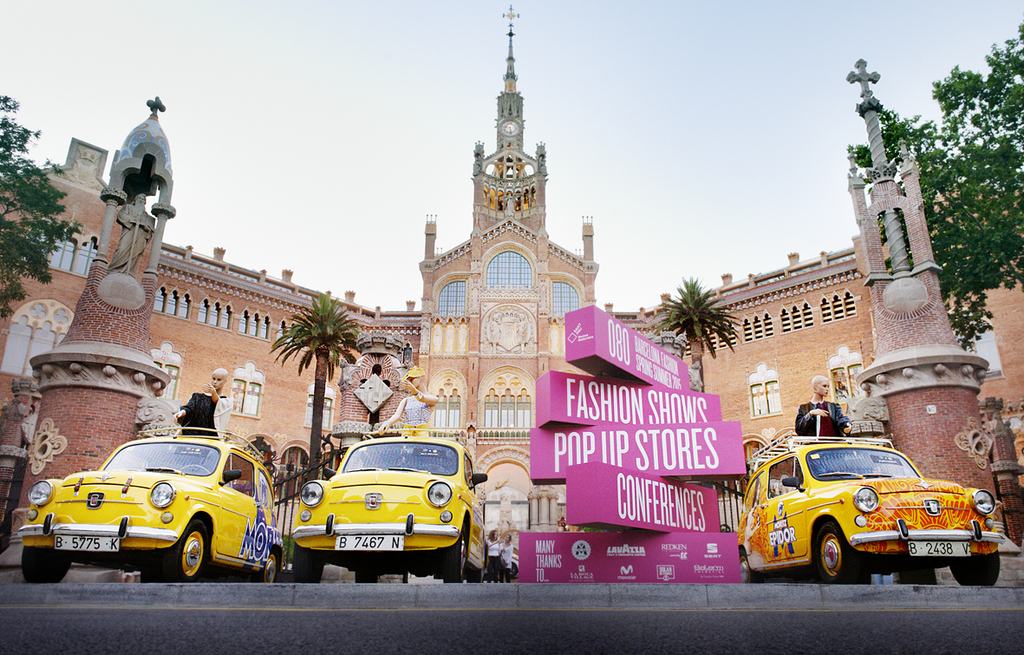cars: (18, 424, 282, 585), (737, 431, 1005, 585), (292, 427, 490, 587)
